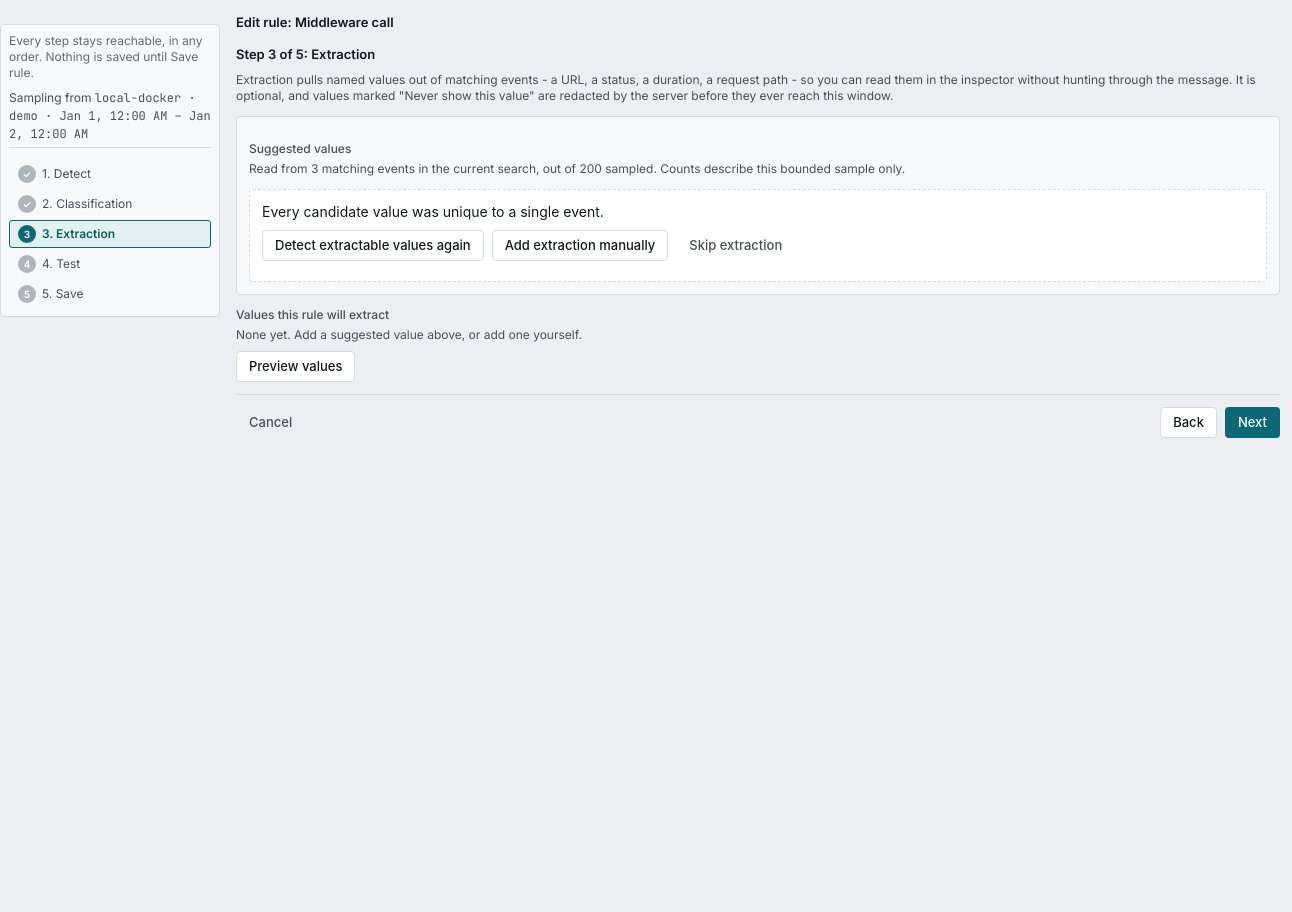
RuleEditor - assisted extraction: nothing could be suggested › "Add extraction manually" adds one empty value whose Advanced disclosure already holds the expression field
Click the button "Add extraction manually". click: (580, 246)
box: [492,230,668,261]
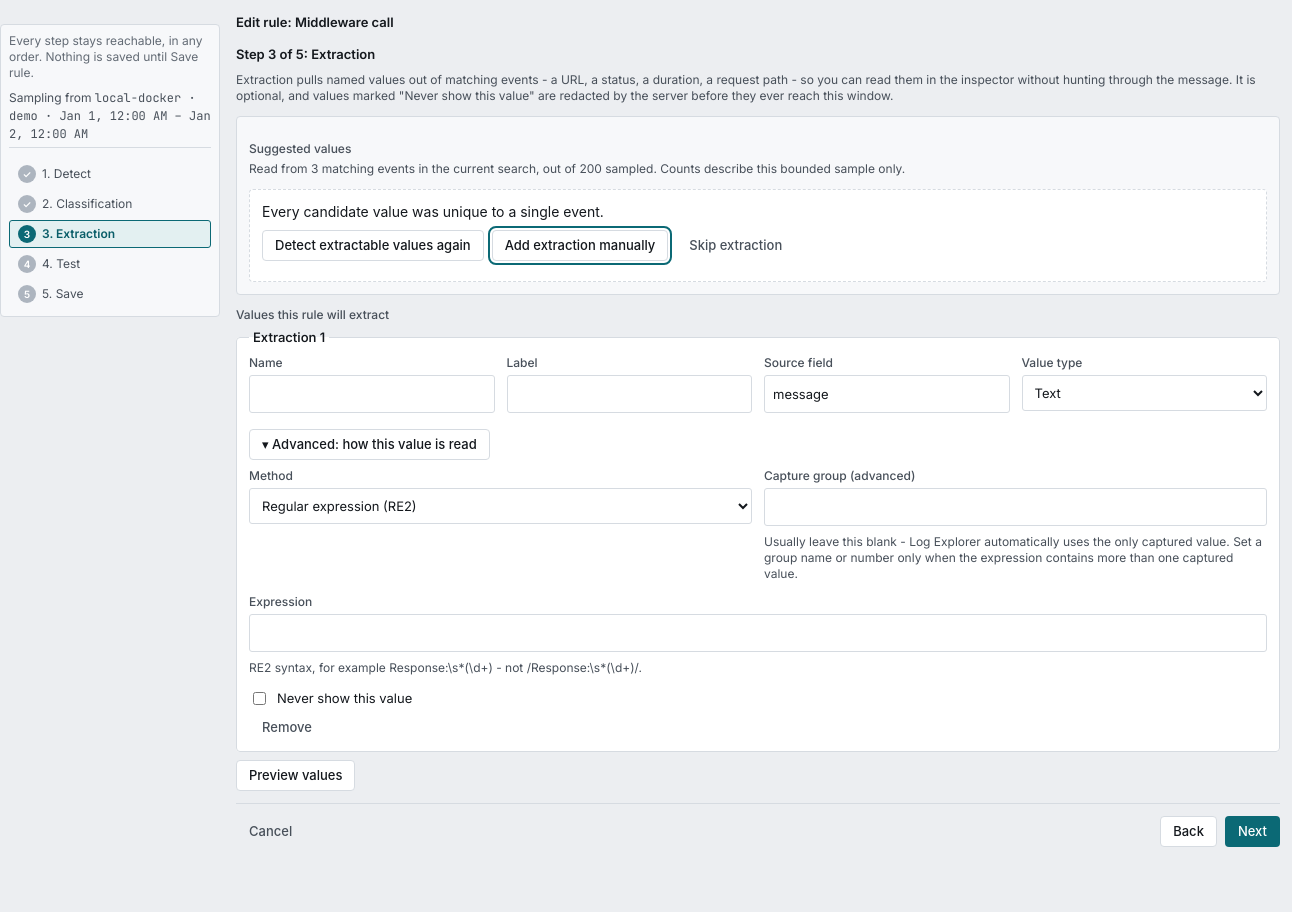
expect the field labelled "Name" is empty: met, box [249,375,494,413]
expect the field labelled "Source field" holds "message": met, box [764,375,1010,413]
expect the dropdown labelled "Method" shows "Regular expression (RE2)": met
Select "JSON pointer" in the dropdown labelled "Method". click: (500, 506)
box: [249,488,752,524]
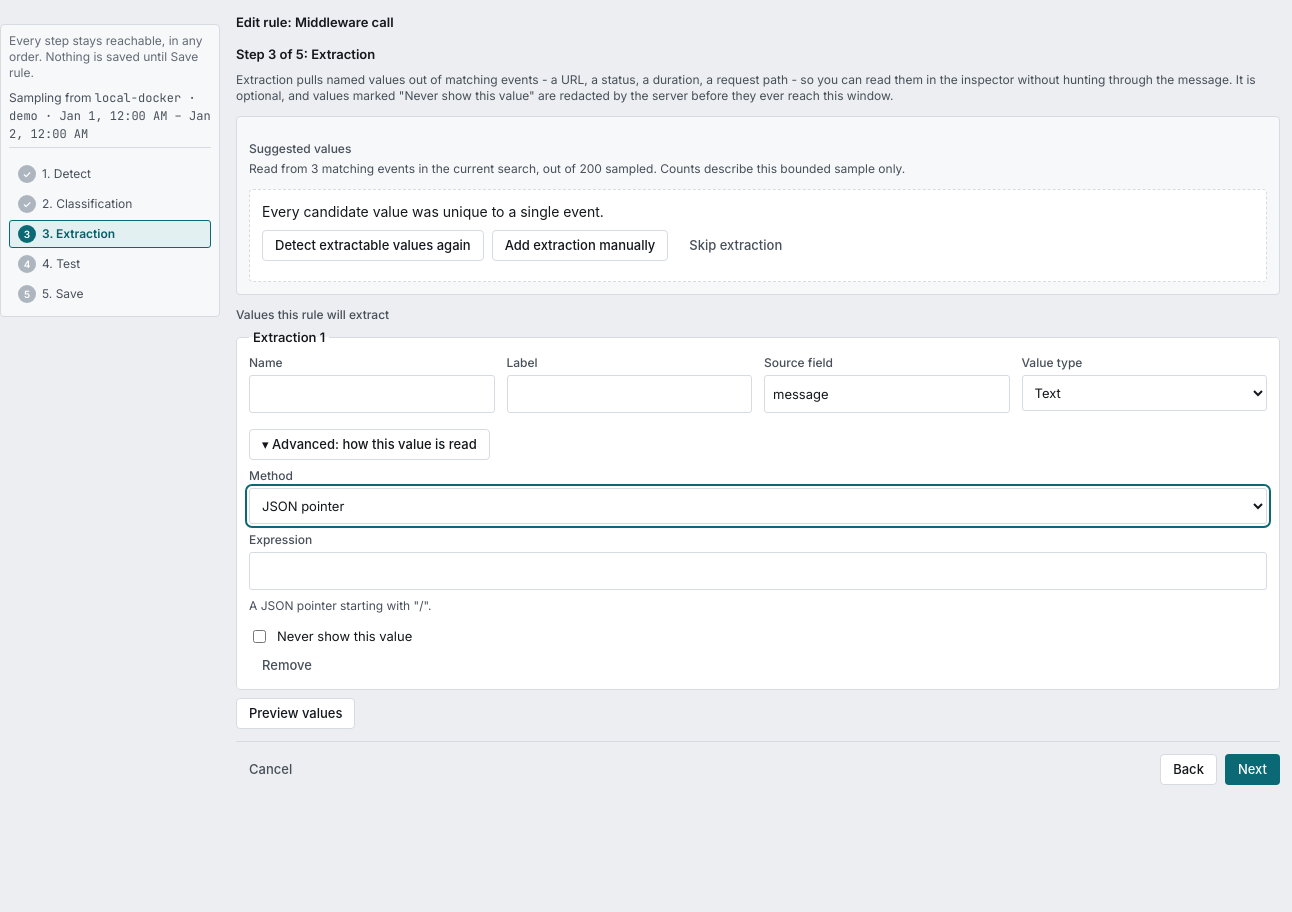
expect the text "A JSON pointer starting with \"/\"." is shown: met, box [249,598,432,613]
